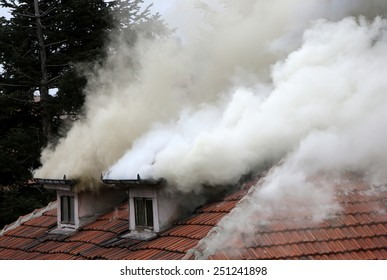smoke: (31, 1, 387, 211)
